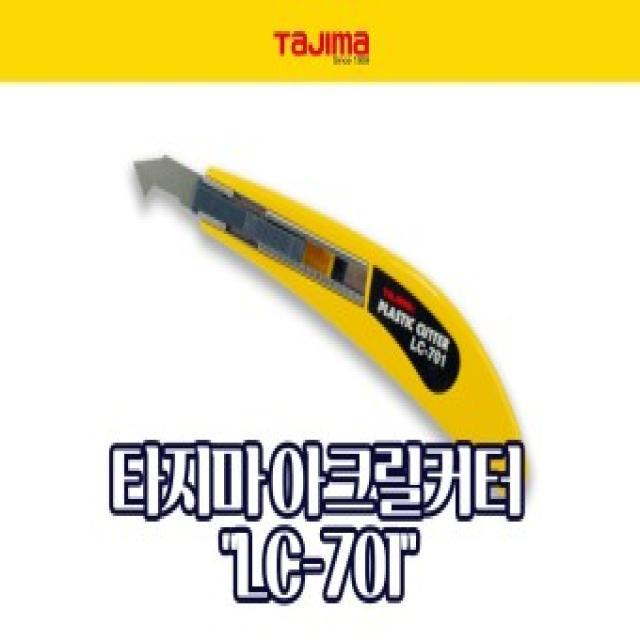cutter: (113, 142, 548, 521)
